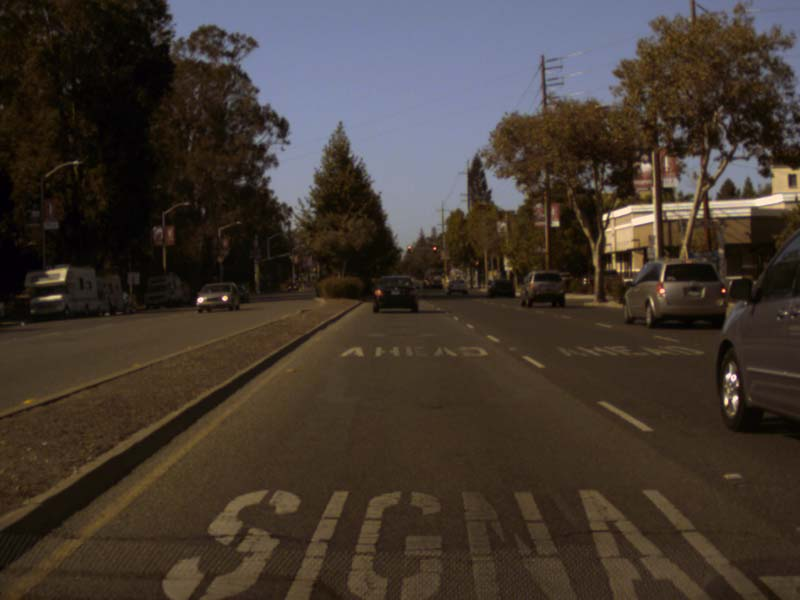Red: (431, 245, 437, 253)
Yellow: (407, 245, 411, 253)
